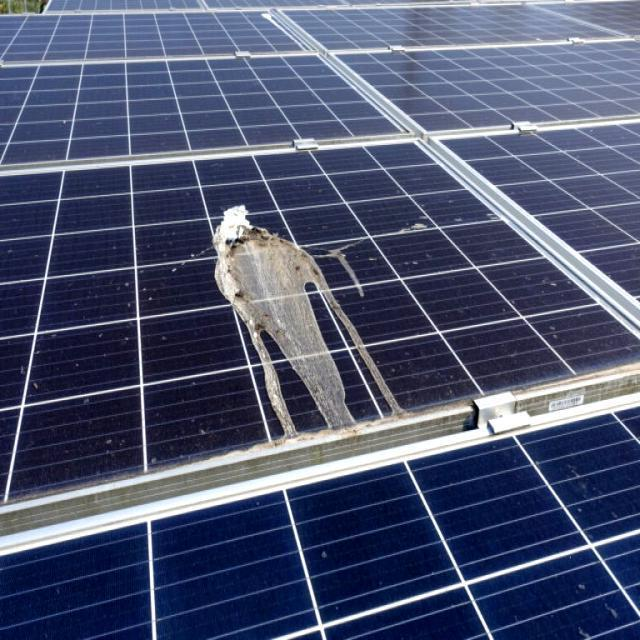soiled: (0, 141, 613, 492)
